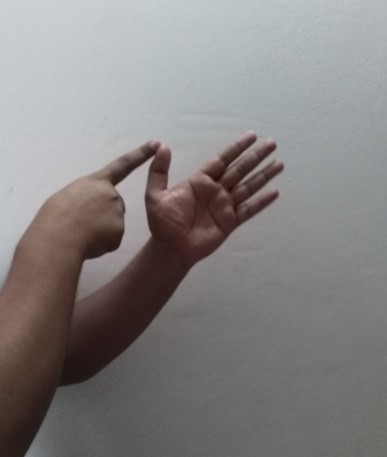a: (44, 129, 287, 283)
